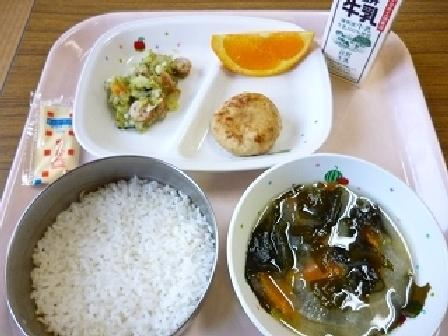Citrus: (205, 21, 320, 81)
Milk: (310, 0, 404, 81)
Rice: (20, 168, 214, 332)
Salad: (97, 47, 192, 131)
Soups: (240, 160, 443, 335)
cutlet: (208, 87, 286, 158)
